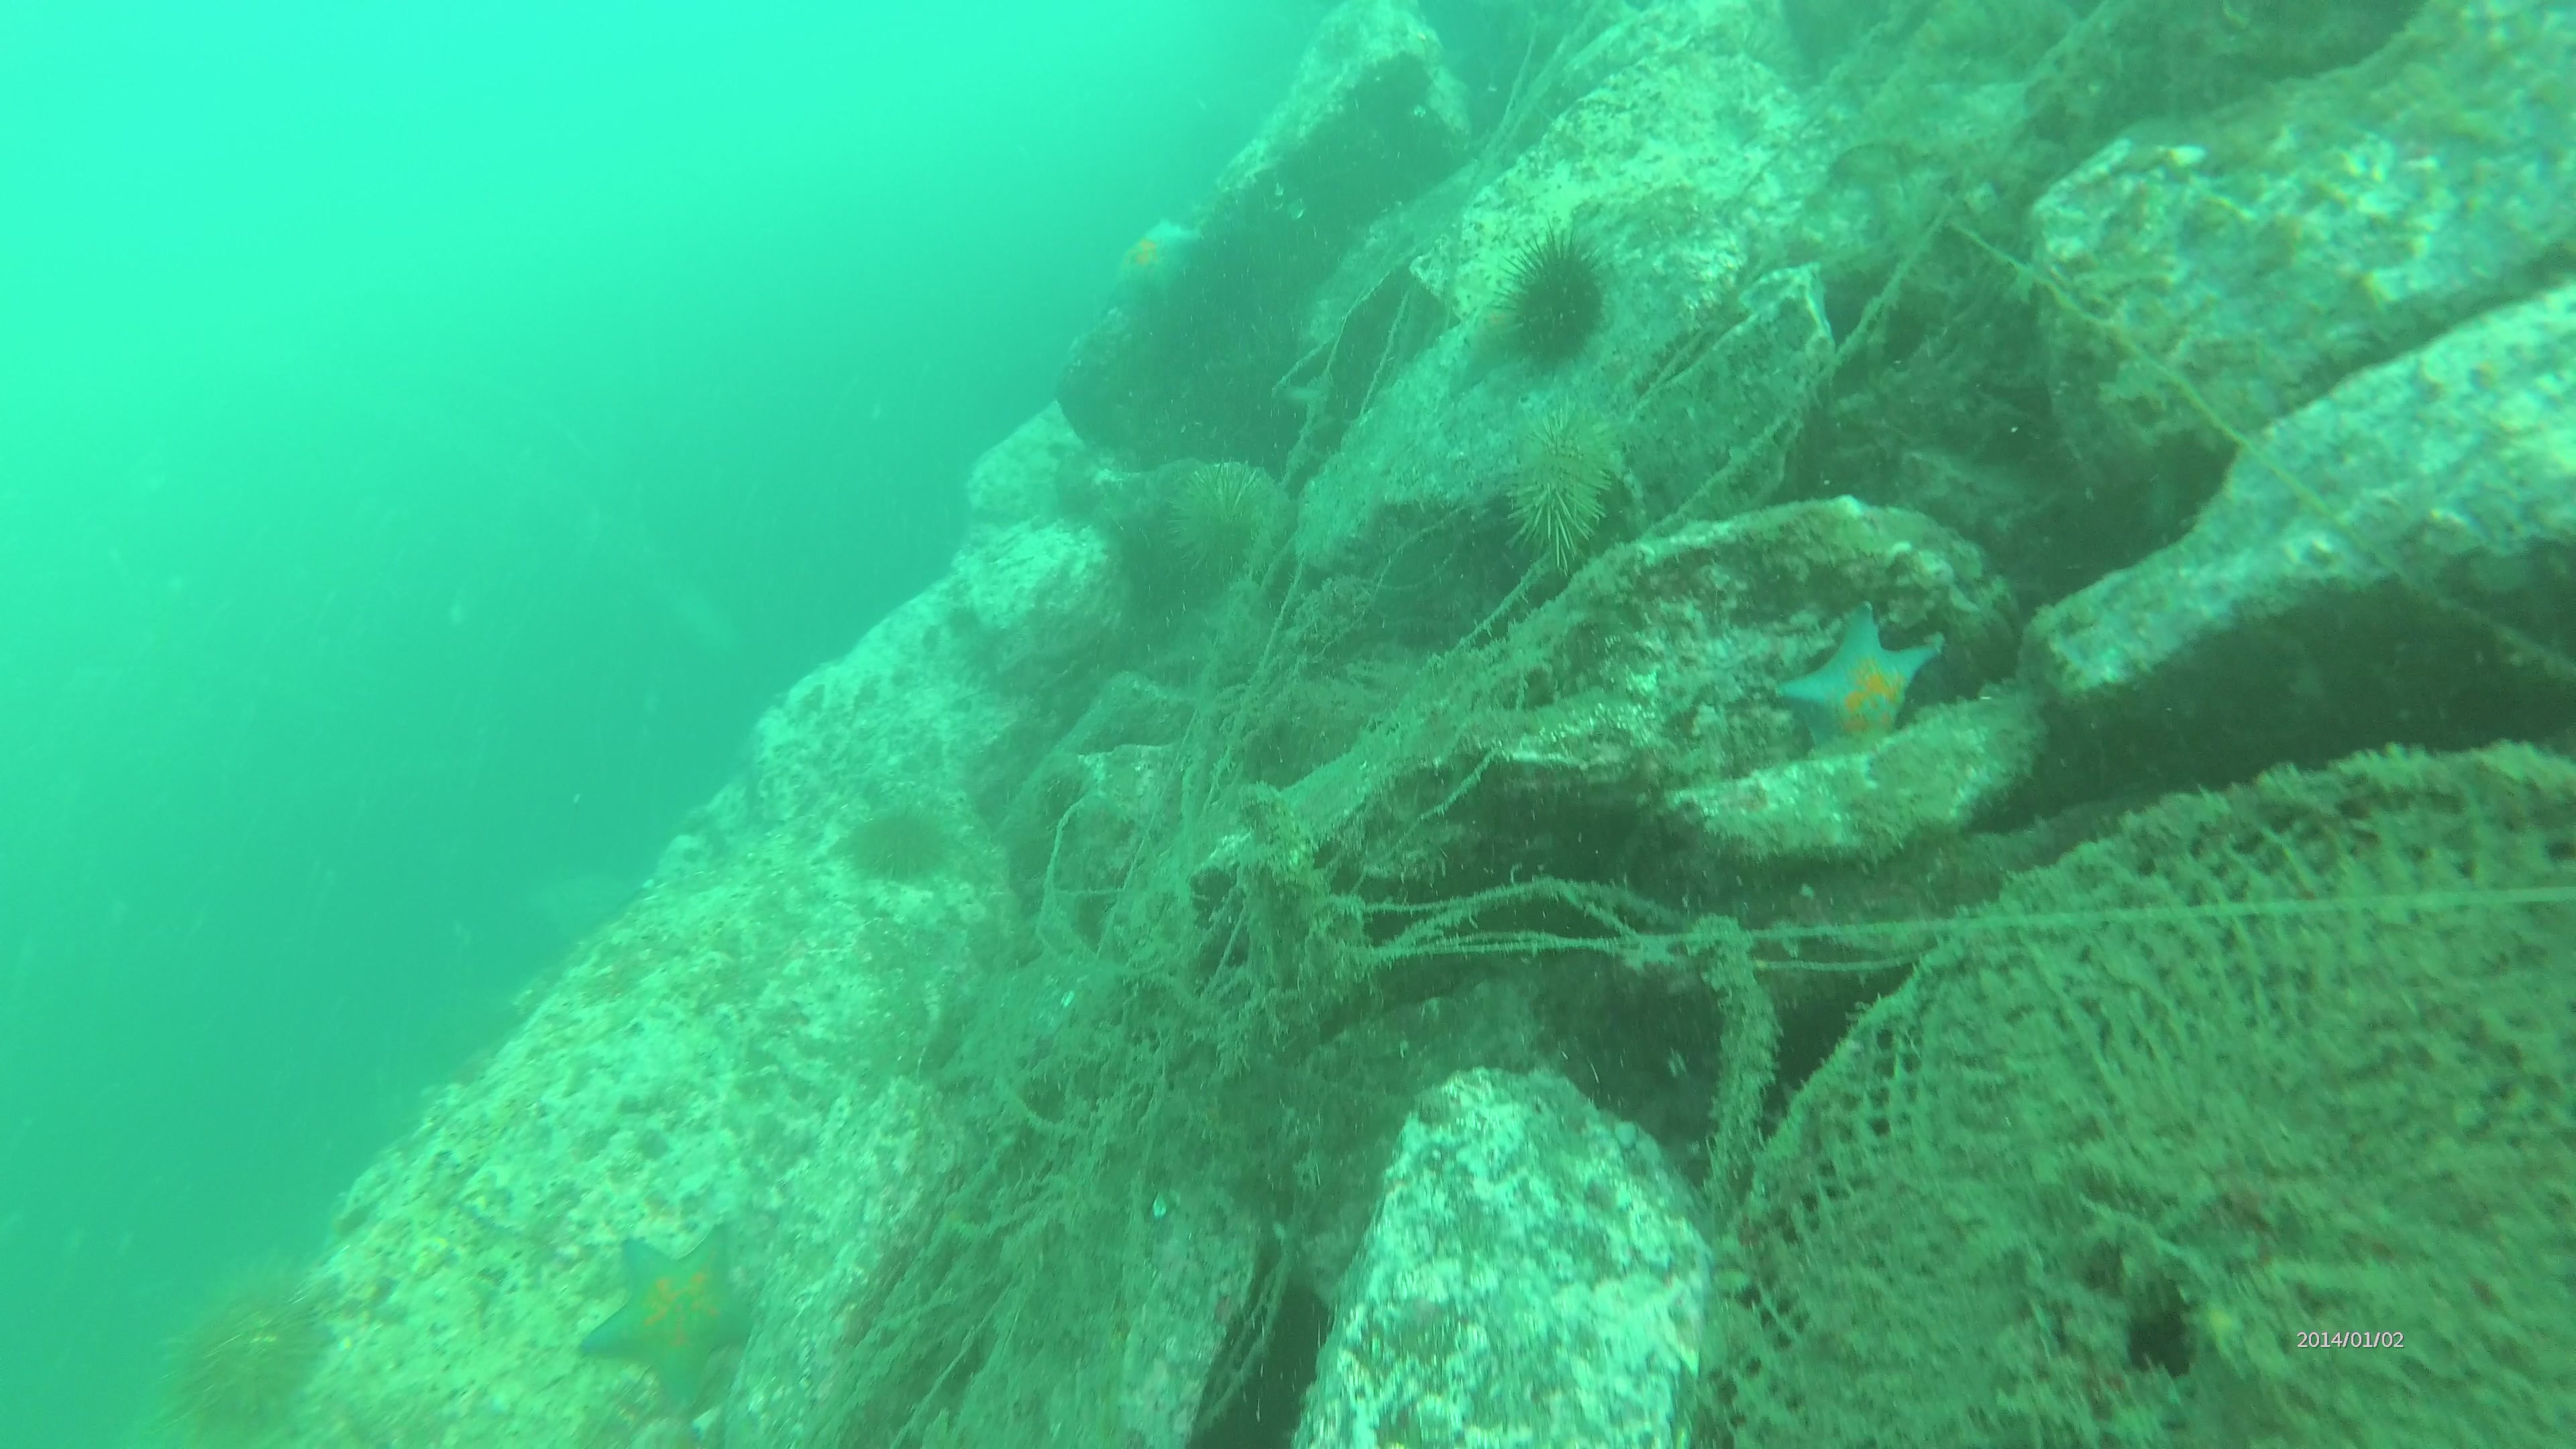echinus: (157, 1283, 354, 1431), (1513, 430, 1610, 566), (1502, 226, 1608, 350), (1166, 495, 1247, 582), (842, 816, 957, 874)
starfish: (587, 1207, 766, 1396), (1789, 619, 1950, 770), (1106, 214, 1200, 292)
